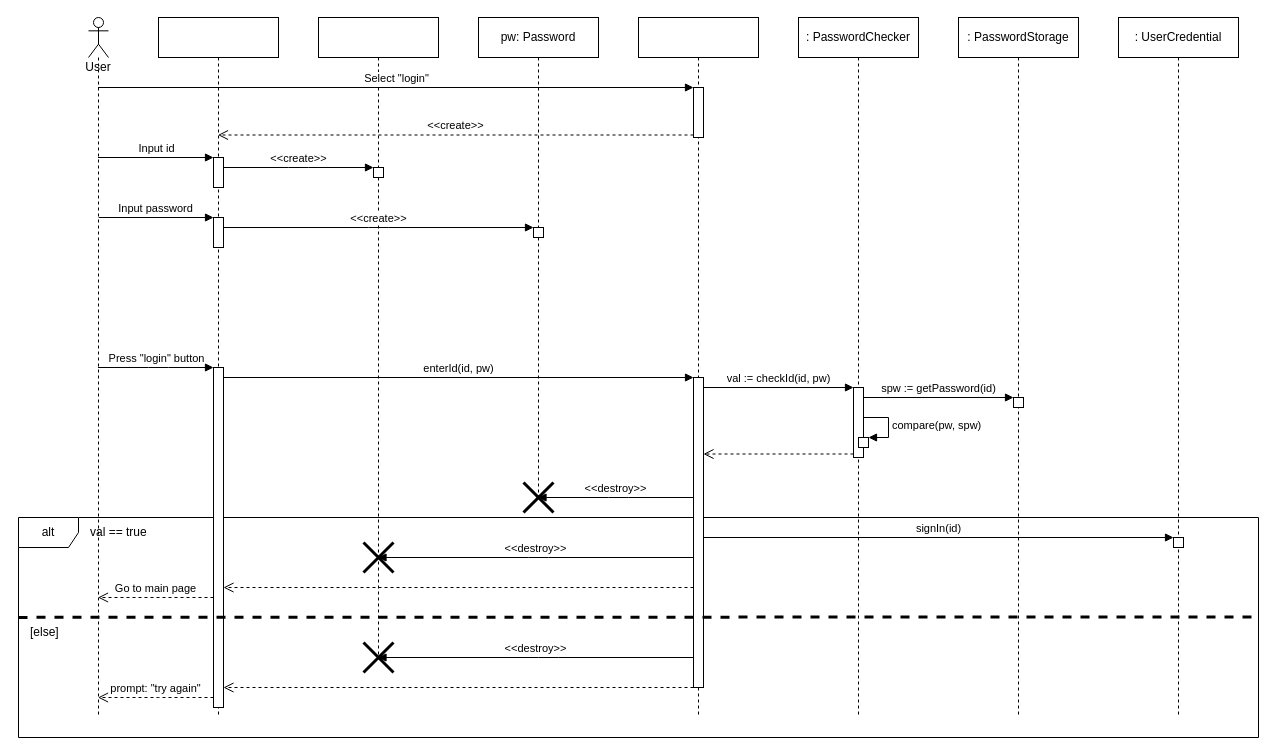
The diagram is 1280 pixels wide and 755 high, and some of its shapes have lost their labels. The shapes that lost their labels are listed below. From the top down, each one's box as (x1, y1, x2, y2) in pixels, then its label:
(318, 16, 438, 658): id: Id
(158, 16, 278, 718): : LoginPage
(638, 16, 758, 718): : Controller
